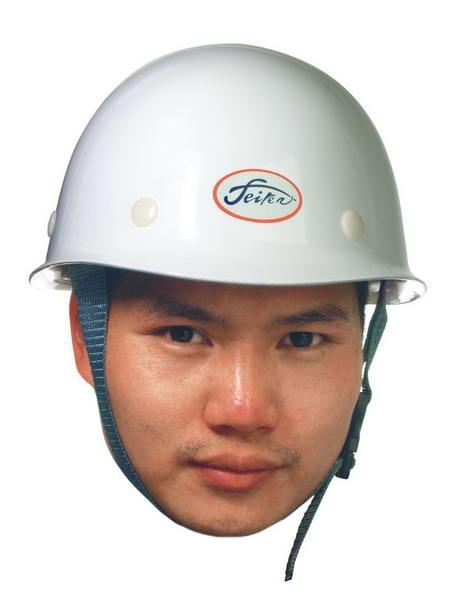helmet: (20, 35, 433, 310)
